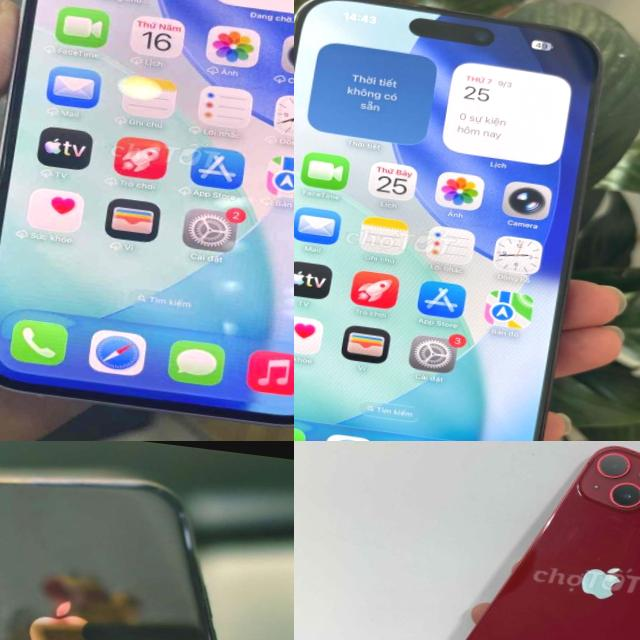gen_12_13: (444, 441, 640, 640)
gen_14: (0, 0, 294, 438)
gen_15: (294, 0, 617, 441)
gen_x_xs: (0, 459, 294, 640)
